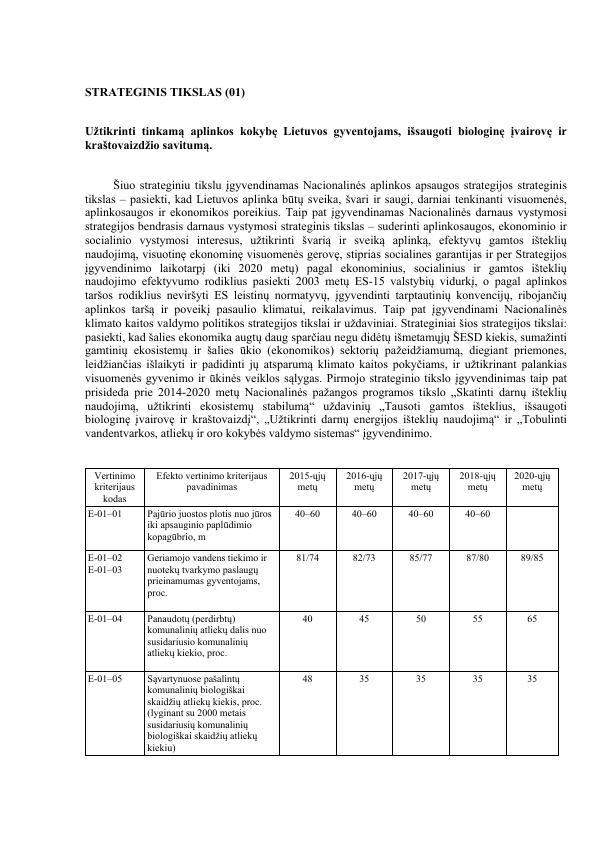table: (80, 465, 563, 760)
text: (80, 174, 570, 441), (83, 120, 568, 158), (82, 83, 248, 103)
